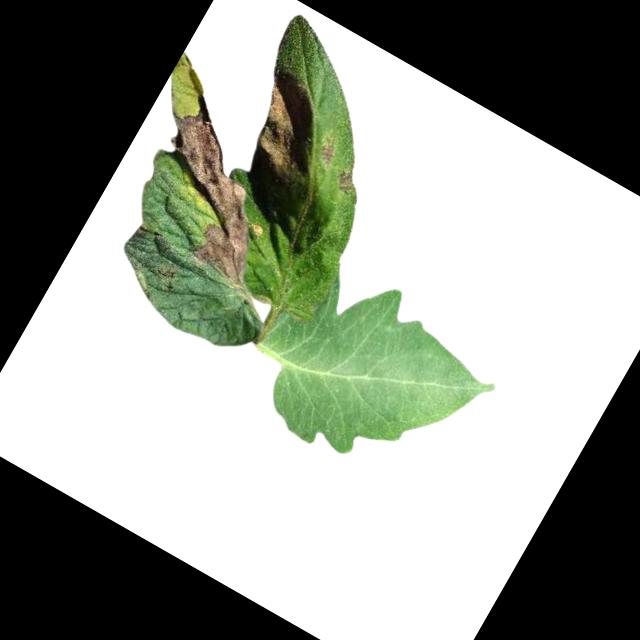Late_blight: (112, 86, 315, 290), (227, 66, 338, 188), (330, 164, 362, 197), (316, 136, 344, 169)
